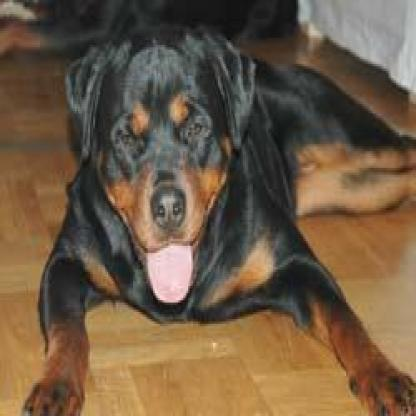Rottweiler: (22, 31, 413, 411)
